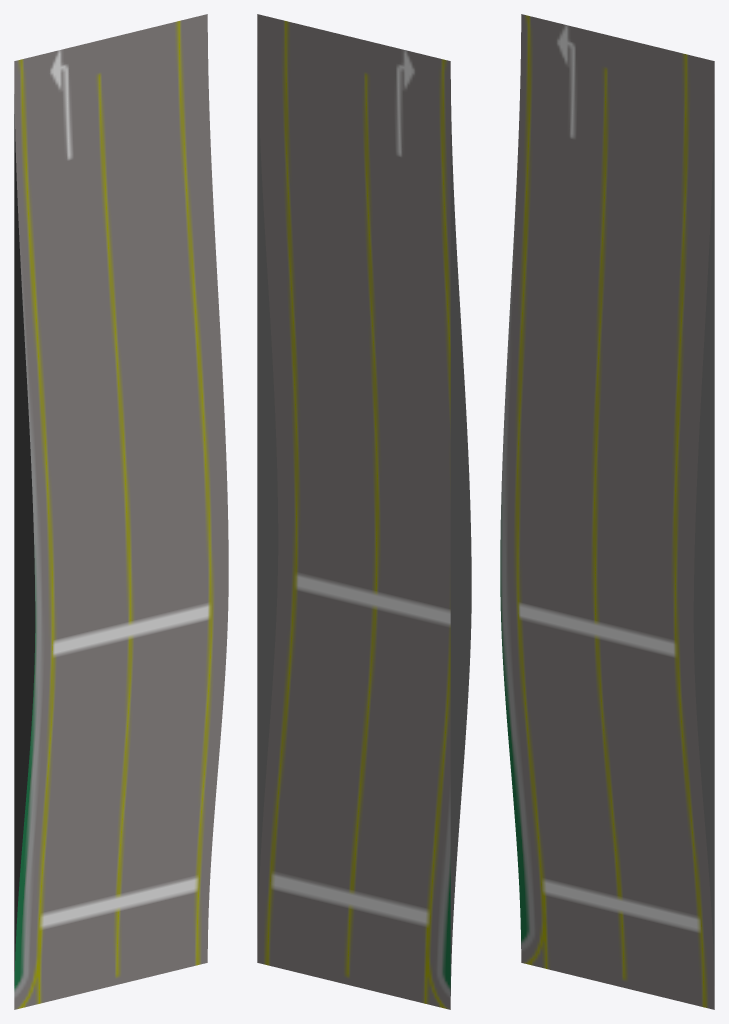
The model's file is hill.obj.
3 renders of one model, left to right at view 1: azimuth 30°, elevation 25°; view 2: azimuth 150°, elevation 25°; view 3: azimuth 330°, elevation 25°, orthographic.
Size of the model in its own units: 8 by 37.46 by 1.5.
Materials: 2 (1 with a texture image).
